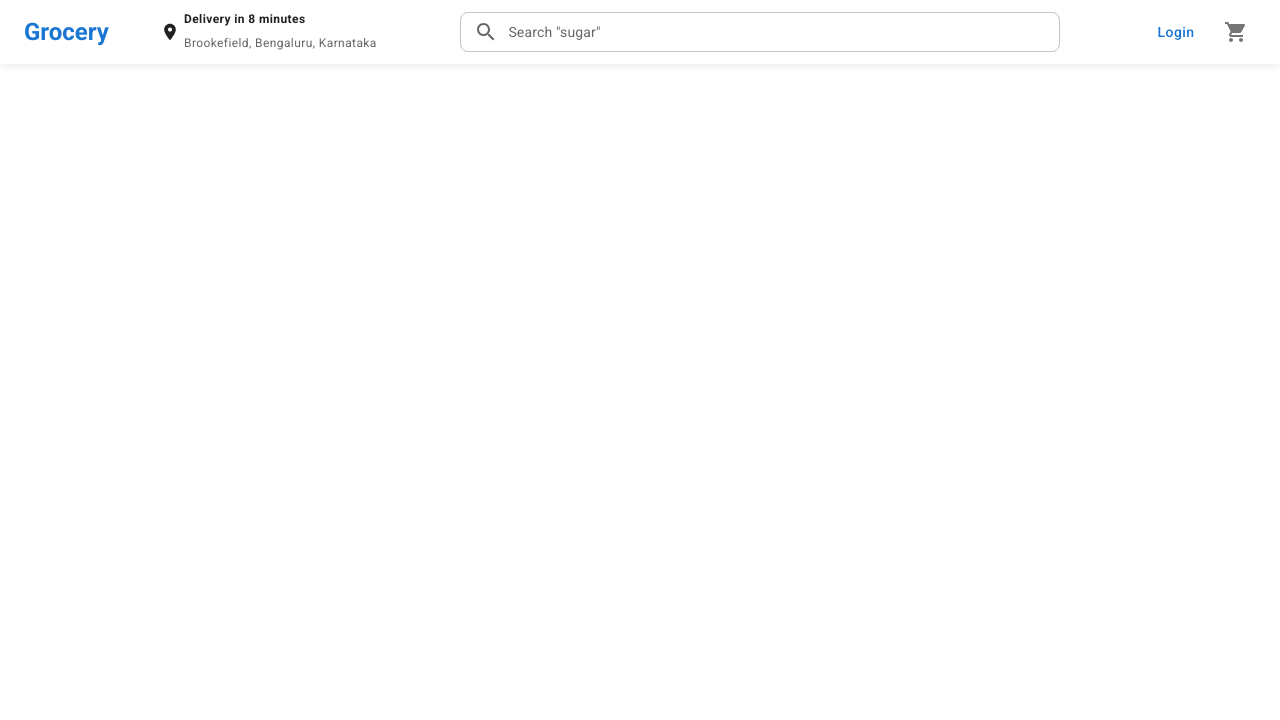
Test: Header Component › opens cart drawer when cart icon is clicked
Click the button named "shopping cart": {"x": 1236, "y": 32} x1=1216 y1=12 x2=1256 y2=52
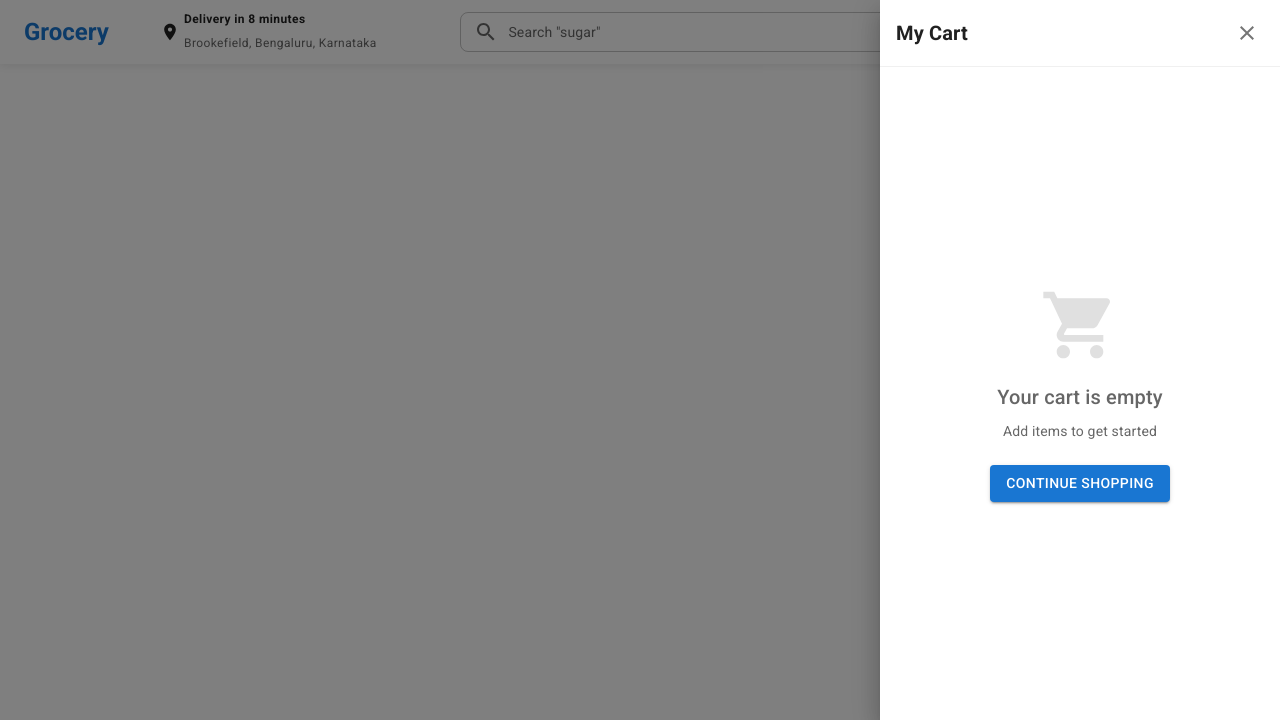
Check: the heading "My Cart" is shown, box x1=896 y1=17 x2=968 y2=49
